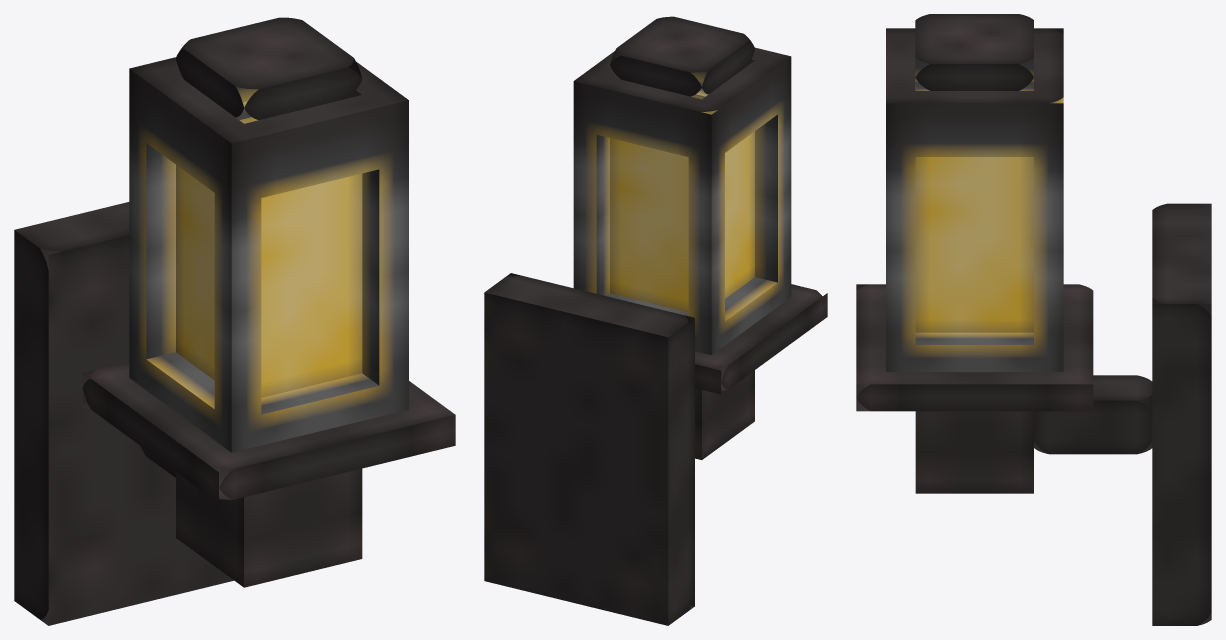
Rendered from Wall_Stand_Lamp.fbx.
The picture shows the model from 3 angles, left to right: view 1: azimuth 30°, elevation 25°; view 2: azimuth 150°, elevation 25°; view 3: azimuth 270°, elevation 25°; orthographic projection. The views are drawn at different scales.
Visible parts, largest first — view 1: Wall_Stand_Lamp; view 2: Wall_Stand_Lamp; view 3: Wall_Stand_Lamp.
Boxes of the visible parts, x1=… form: Wall_Stand_Lamp: x1=14, y1=17, x2=455, y2=625; Wall_Stand_Lamp: x1=484, y1=16, x2=827, y2=625; Wall_Stand_Lamp: x1=856, y1=14, x2=1211, y2=625.
Bounding box in the file's own units: 50 × 125 × 75.
Materials: 1 (1 with a texture image).
